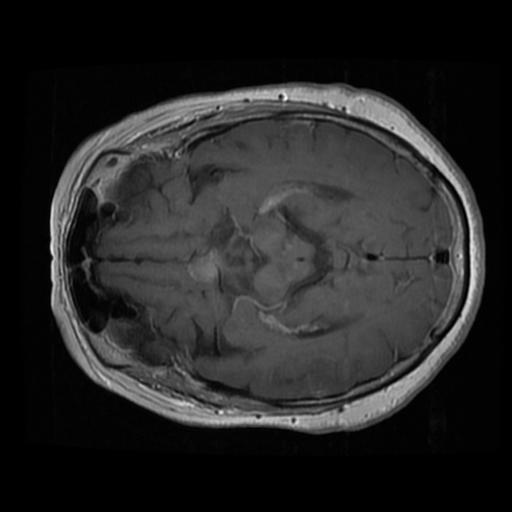pituitary tumour: (184, 254, 219, 287)
